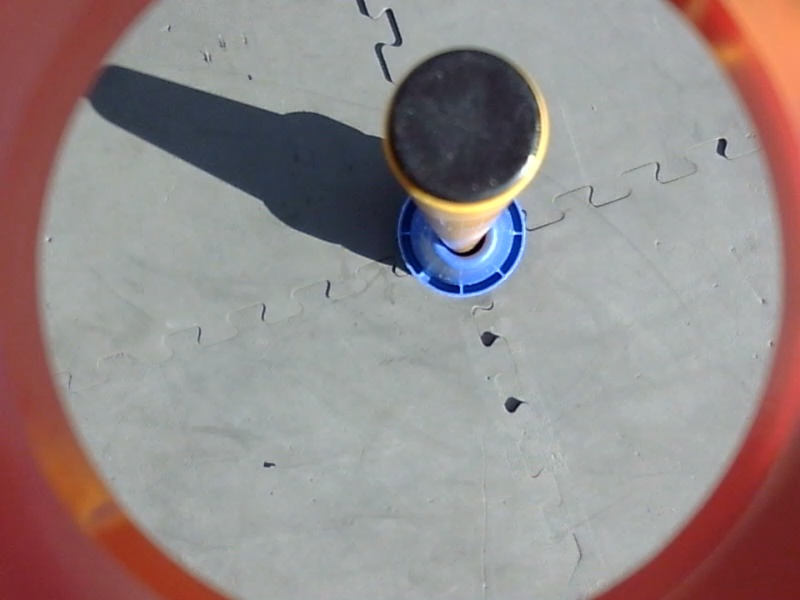tip: (377, 43, 557, 221)
